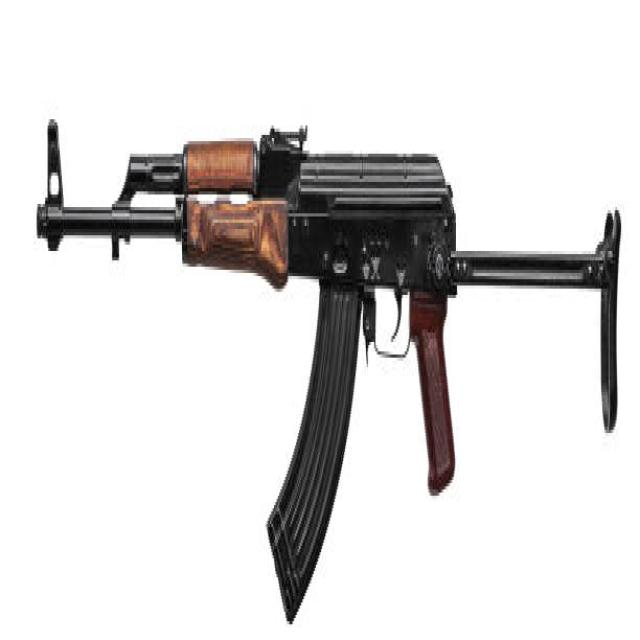rifle: (32, 111, 623, 640)
